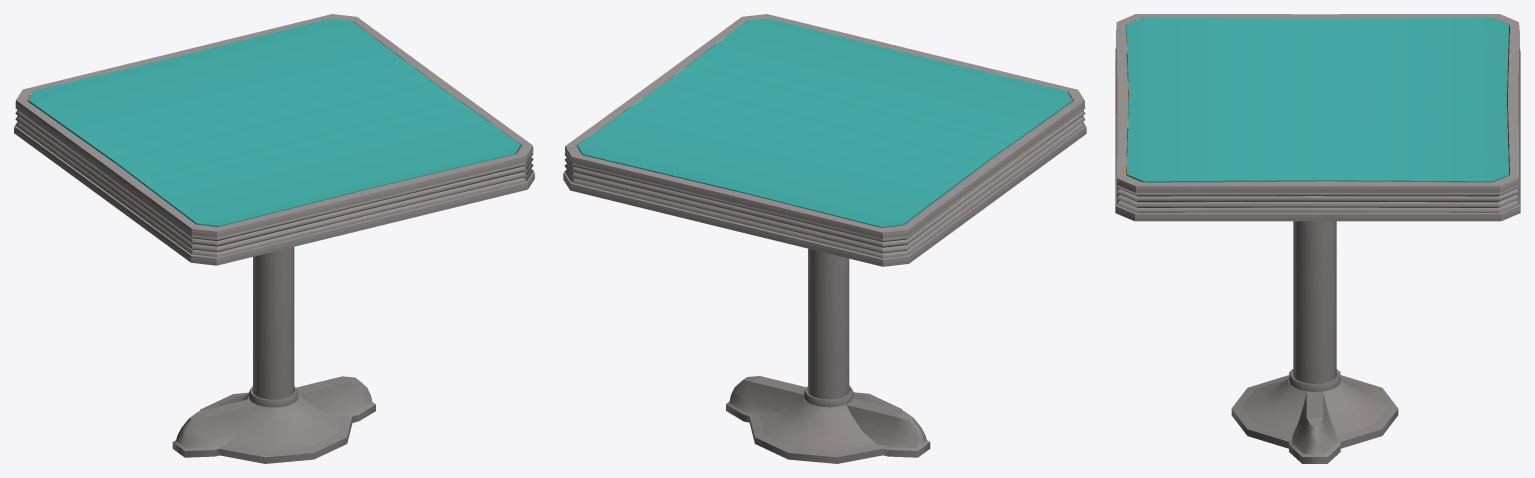
Rendered from Table_Square_small.fbx.
3 renders of one model, left to right at view 1: azimuth 30°, elevation 25°; view 2: azimuth 150°, elevation 25°; view 3: azimuth 270°, elevation 25°, orthographic. The views are drawn at different scales.
Parts seen in each view (by area): view 1: Table_Square1; view 2: Table_Square1; view 3: Table_Square1.
Boxes of the visible parts, x1,y1,x2,y2 form: Table_Square1: [14, 14, 534, 463]; Table_Square1: [563, 14, 1086, 463]; Table_Square1: [1115, 14, 1520, 463].
Bounding box in the file's own units: 0.9171 × 0.7803 × 0.9047.
